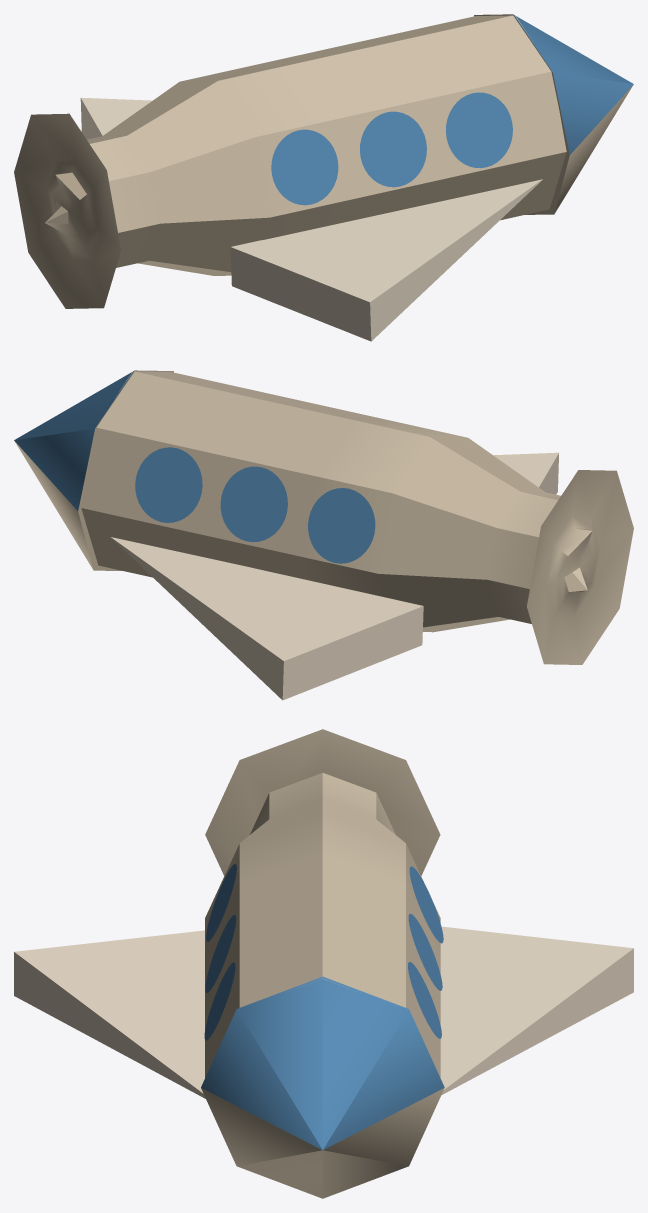
The model's file is SpaceShip.fbx.
3 renders of one model, top to bottom at view 1: azimuth 30°, elevation 25°; view 2: azimuth 150°, elevation 25°; view 3: azimuth 270°, elevation 25°, orthographic. The views are drawn at different scales.
Parts seen in each view (by area): view 1: Oil_Tank, Pyramid, Cone, Disc, Disc_1, Disc_2, Pyramid_1; view 2: Oil_Tank, Pyramid_1, Cone, Disc_3, Disc_5, Disc_4, Pyramid; view 3: Oil_Tank, Cone, Pyramid_1, Pyramid, Disc_4, Disc_5, Disc_3, Disc_2, Disc, Disc_1.
Part boxes in pixels (x1,y1,x2,y2): Oil_Tank: [14, 15, 566, 308]; Pyramid: [230, 179, 542, 341]; Cone: [474, 14, 633, 214]; Disc: [271, 129, 338, 205]; Disc_1: [360, 111, 426, 187]; Disc_2: [446, 92, 512, 168]; Pyramid_1: [80, 97, 152, 139]; Oil_Tank: [81, 371, 633, 664]; Pyramid_1: [110, 537, 423, 700]; Cone: [14, 370, 173, 570]; Disc_3: [135, 447, 202, 522]; Disc_5: [308, 488, 375, 563]; Disc_4: [220, 466, 287, 542]; Pyramid: [493, 452, 558, 494]; Oil_Tank: [205, 729, 440, 1077]; Cone: [201, 976, 444, 1198]; Pyramid_1: [440, 926, 633, 1095]; Pyramid: [14, 930, 205, 1098]; Disc_4: [408, 913, 442, 990]; Disc_5: [409, 866, 443, 943]; Disc_3: [408, 962, 441, 1038]; Disc_2: [204, 962, 235, 1040]; Disc: [206, 864, 236, 941]; Disc_1: [205, 915, 236, 992].
Bounding box in the file's own units: 940 × 325 × 791.
